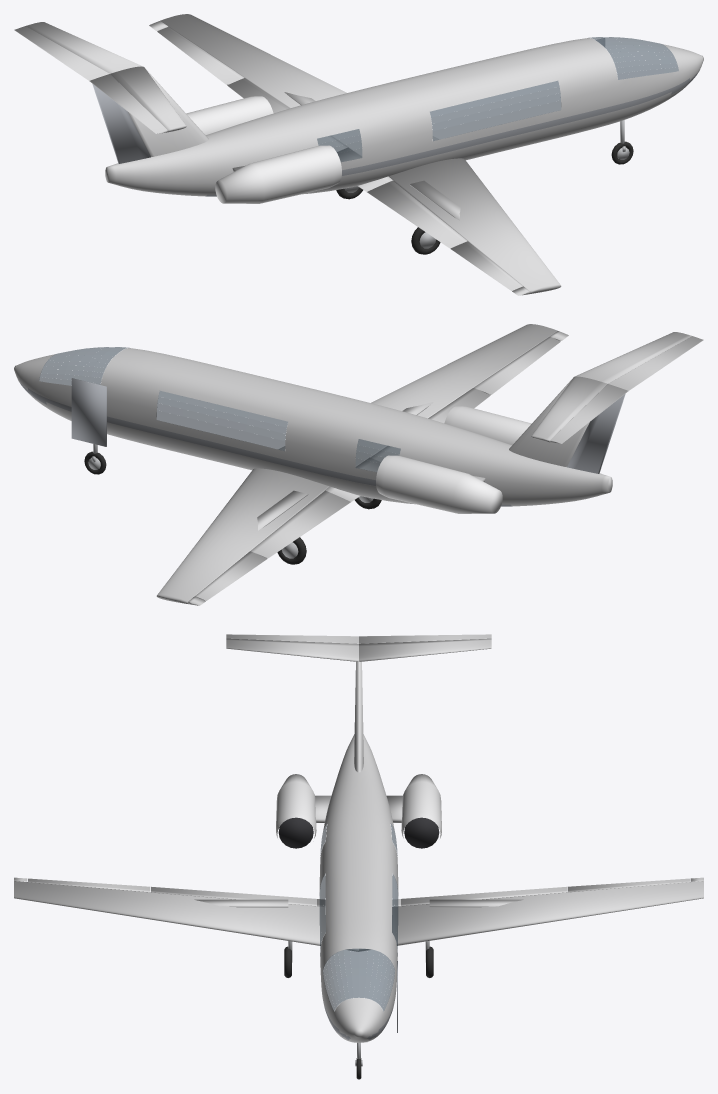
Rendered from vesta_lod0.glb.
3 renders of one model, top to bottom at view 1: azimuth 30°, elevation 25°; view 2: azimuth 150°, elevation 25°; view 3: azimuth 270°, elevation 25°, orthographic. The views are drawn at different scales.
Visible parts, largest first — view 1: fuselage, wing_R, glass, wing_L, nacelle_2, stabilizer, elevator, flap_R_1, rudder, nacelle_1, fin, aileron_L (+3 smaller); view 2: fuselage, wing_L, glass, wing_R, nacelle_1, stabilizer, elevator, door_main, flap_L_1, rudder, nacelle_2, fin (+4 smaller); view 3: fuselage, wing_L, wing_R, glass, stabilizer, elevator, nacelle_1, nacelle_2, flap_L_1, flap_R_1, fin, fan_1_face (+3 smaller).
Boxes of the visible parts, bbox=[...] form: fuselage: bbox=[105, 38, 703, 196]; wing_R: bbox=[358, 158, 561, 295]; glass: bbox=[317, 37, 678, 162]; wing_L: bbox=[149, 14, 439, 161]; nacelle_2: bbox=[215, 145, 341, 203]; stabilizer: bbox=[26, 22, 186, 132]; elevator: bbox=[14, 26, 167, 133]; flap_R_1: bbox=[367, 180, 467, 248]; rudder: bbox=[92, 84, 150, 163]; nacelle_1: bbox=[186, 96, 273, 134]; fin: bbox=[128, 69, 208, 156]; aileron_L: bbox=[157, 27, 244, 84]; fuselage: bbox=[14, 348, 612, 506]; wing_L: bbox=[156, 468, 359, 605]; glass: bbox=[39, 347, 400, 472]; wing_R: bbox=[278, 324, 568, 471]; nacelle_1: bbox=[376, 455, 502, 513]; stabilizer: bbox=[531, 332, 691, 442]; elevator: bbox=[550, 336, 703, 443]; door_main: bbox=[71, 378, 106, 446]; flap_L_1: bbox=[250, 490, 350, 558]; rudder: bbox=[567, 394, 625, 473]; nacelle_2: bbox=[444, 406, 531, 444]; fin: bbox=[509, 379, 589, 466]; fuselage: bbox=[319, 734, 398, 1042]; wing_L: bbox=[359, 877, 703, 951]; wing_R: bbox=[14, 877, 358, 951]; glass: bbox=[319, 823, 398, 1011]; stabilizer: bbox=[226, 638, 491, 661]; elevator: bbox=[226, 634, 491, 643]; nacelle_1: bbox=[401, 774, 441, 838]; nacelle_2: bbox=[276, 774, 316, 838]; flap_L_1: bbox=[401, 886, 566, 906]; flap_R_1: bbox=[151, 886, 316, 906]; fin: bbox=[354, 661, 363, 772]; fan_1_face: bbox=[404, 817, 439, 848].
Size of the model in its own units: 15.05 by 5.15 by 15.6.
